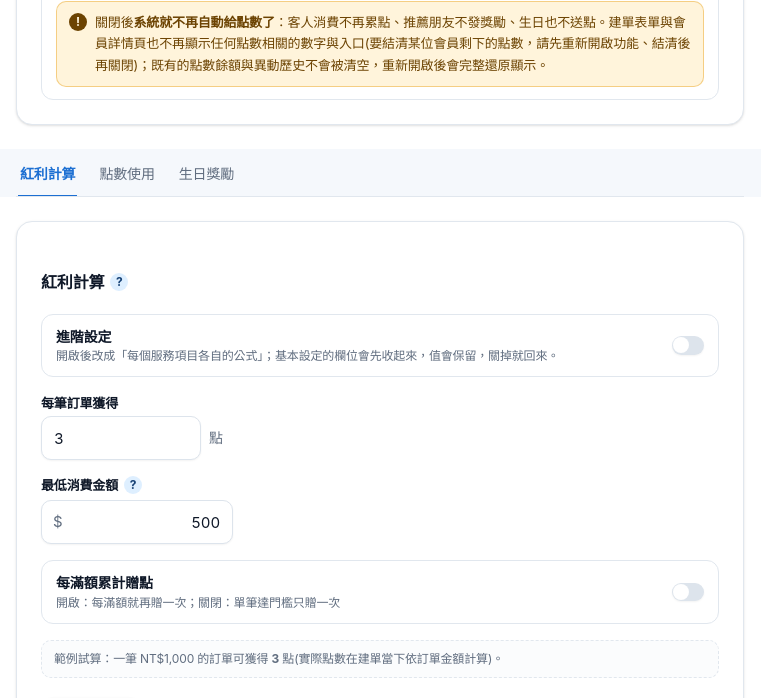
Scenario: §4.2 紅利計算 › 新增公式:「全部服務項目」那條有常駐 `!` 逐字文案、一句話預覽正確
(page scrolled)
What coordinates should you click on to do the following:
click the switch named "進階設定" in the row of "進階設定"
I would click on:
 (688, 346)
Its box is [672,336,704,355].
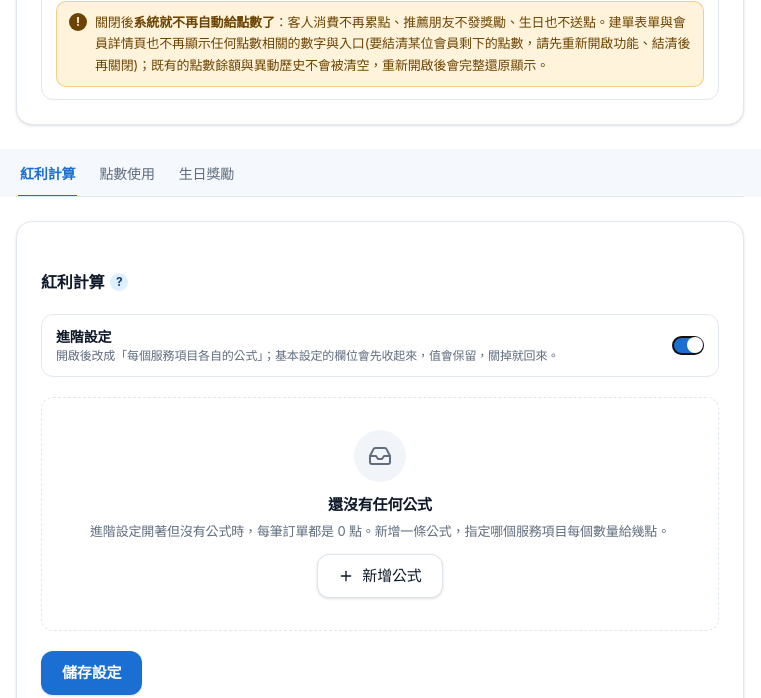
What coordinates should you click on to do the following:
click the button "新增公式"
I would click on:
 (380, 576)
Its box is [317,554,443,598].
(page scrolled)
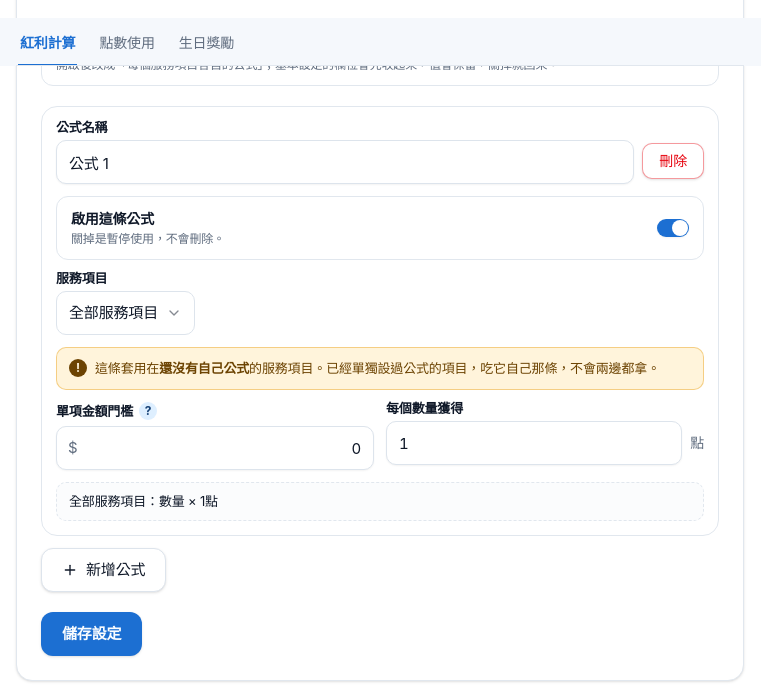
Now the field labelled "公式名稱" holds "公式 1", box [56,140,634,184]
Now the element with test id "formula-card" shows "這條套用在還沒有自己公式的服務項目。已經單獨設過公式的項目，吃它自己那條，不會兩邊都拿。", box [41,106,719,536]
Now the text with test id "formula-preview" reads "全部服務項目：數量 × 1點", box [69,493,218,509]
